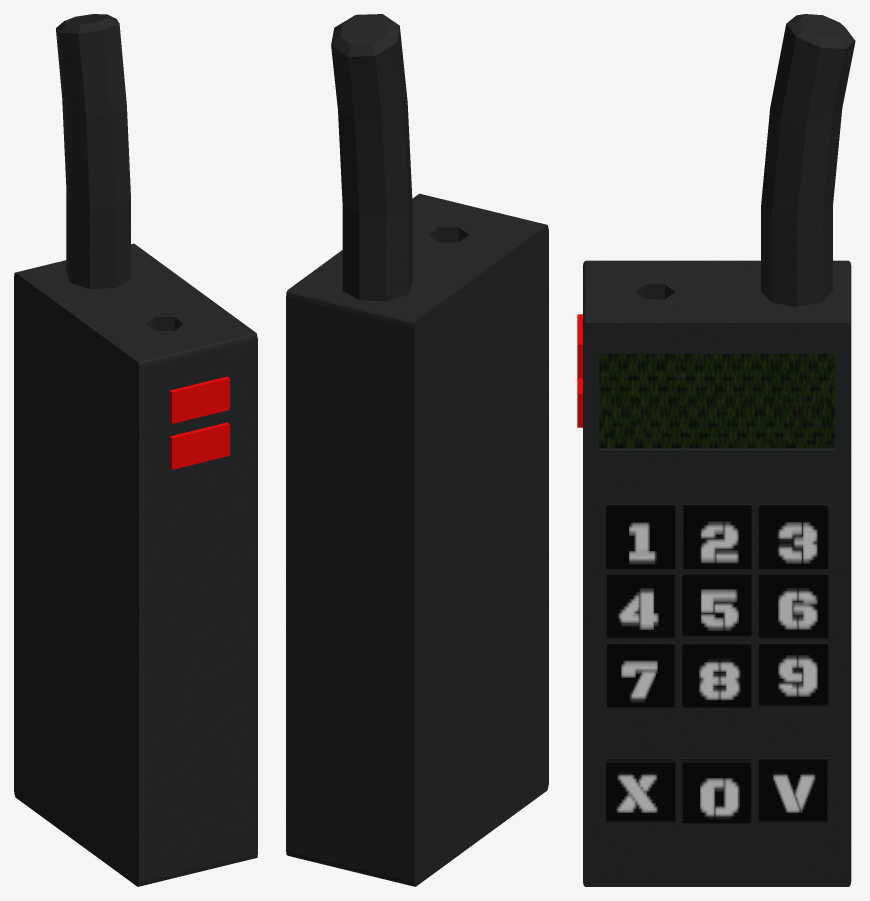
The model's file is radio.obj.
The picture shows the model from 3 angles, left to right: view 1: azimuth 30°, elevation 25°; view 2: azimuth 150°, elevation 25°; view 3: azimuth 270°, elevation 25°; orthographic projection. The views are drawn at different scales.
Visible parts, largest first — view 1: Cube_Cube.001; view 2: Cube_Cube.001; view 3: Cube_Cube.001.
Boxes of the visible parts, x1=… form: Cube_Cube.001: x1=14, y1=14, x2=257, y2=886; Cube_Cube.001: x1=286, y1=14, x2=548, y2=886; Cube_Cube.001: x1=577, y1=14, x2=855, y2=886.
Bounding box in the file's own units: 1.13 × 6.87 × 2.07.
2 materials, 2 textured.
